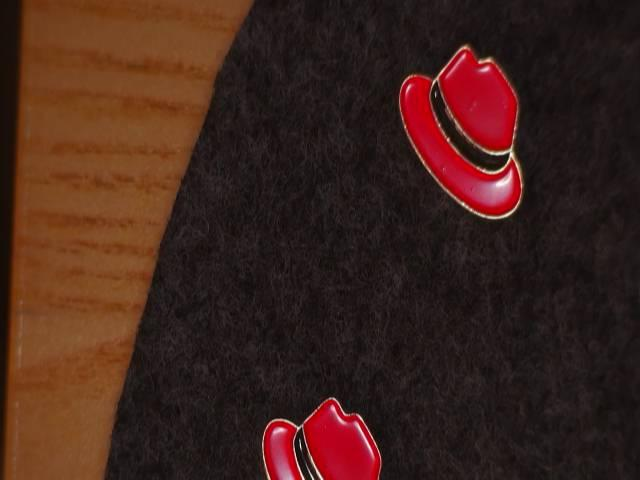Red-Hat: (379, 25, 550, 235), (242, 376, 423, 480)
